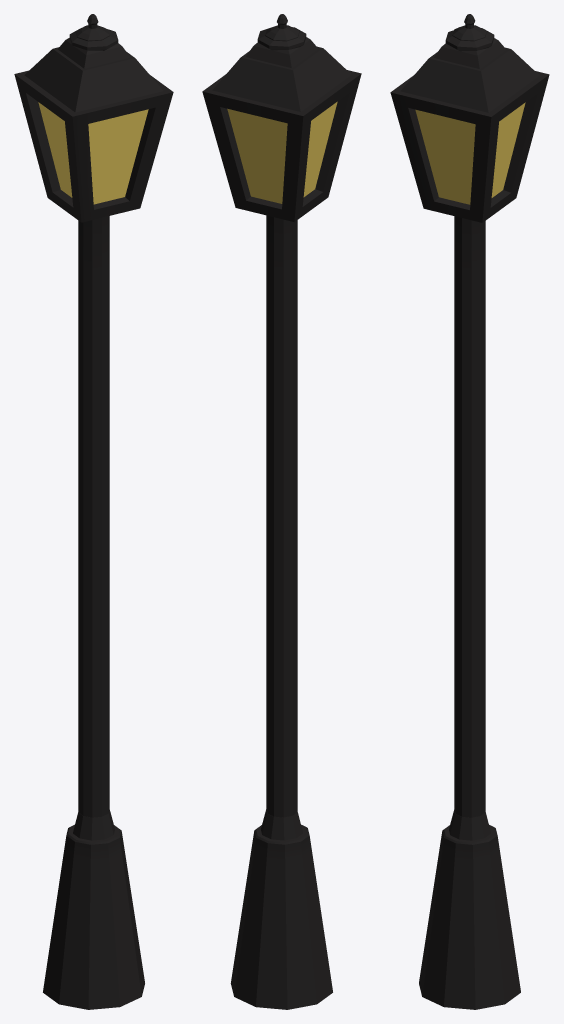
The model's file is Lampadaire.fbx.
3 views of the same model, side by side, from view 1: azimuth 30°, elevation 25°; view 2: azimuth 150°, elevation 25°; view 3: azimuth 330°, elevation 25° (orthographic).
Visible parts, largest first — view 1: Cube.008; view 2: Cube.008; view 3: Cube.008.
Boxes of the visible parts, x1=… form: Cube.008: x1=14, y1=14, x2=173, y2=1009; Cube.008: x1=202, y1=14, x2=361, y2=1009; Cube.008: x1=390, y1=14, x2=549, y2=1009.
Bounding box in the file's own units: 96.56 × 889 × 96.56.
